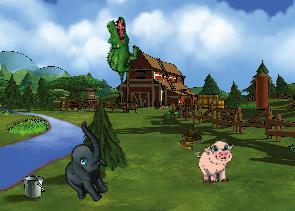crocodile: (90, 14, 150, 83)
elephant: (43, 120, 131, 209)
pig: (195, 140, 236, 185)
